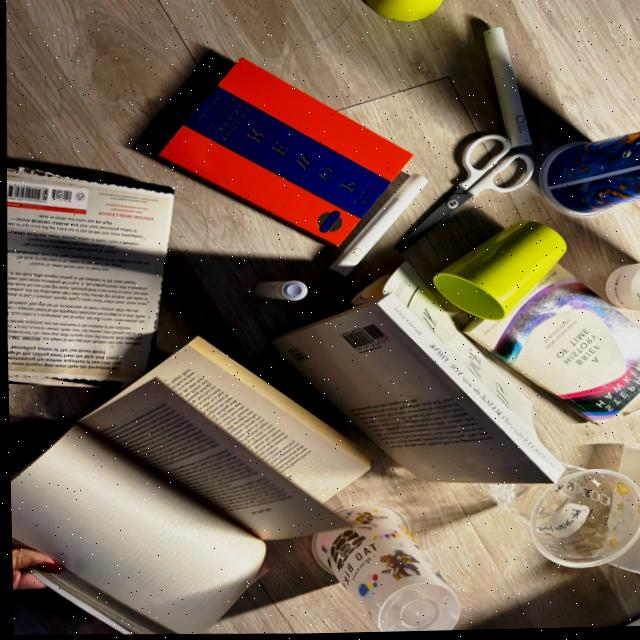Book: (8, 378, 347, 634), (267, 300, 569, 486), (159, 59, 411, 247), (6, 166, 172, 387), (462, 262, 640, 429), (191, 336, 369, 467)
HighLight Pen: (328, 176, 427, 277), (538, 135, 640, 219), (483, 29, 529, 150), (254, 281, 305, 302)
Plastic Cup: (309, 505, 457, 634), (486, 468, 640, 570), (603, 266, 640, 314), (607, 532, 640, 577), (616, 447, 640, 497)
Scissors: (395, 135, 534, 250)
WaterGlass: (431, 224, 565, 322), (363, 0, 444, 23)
